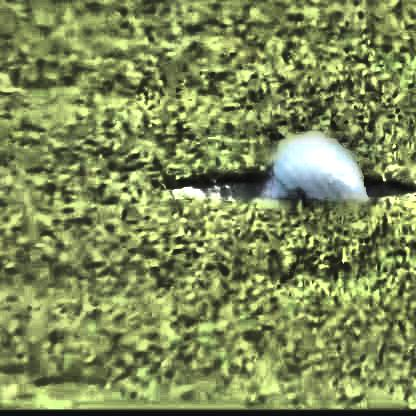golfball: (260, 149, 368, 219)
